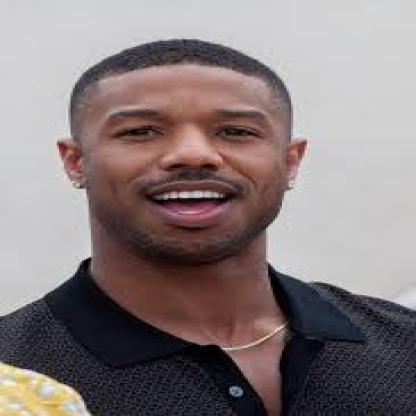person: (71, 54, 286, 294)
